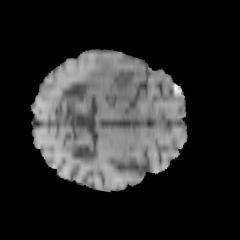glioma: (81, 56, 145, 100)
